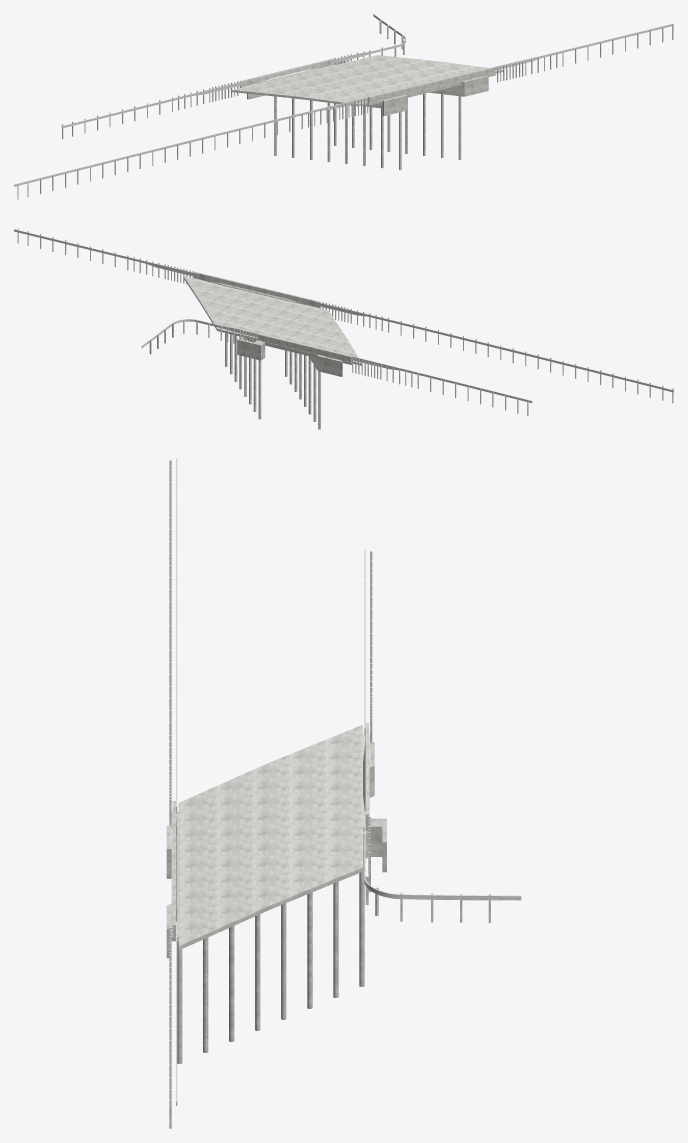
File: model_render.glb
3 views of the same model, one above another, from view 1: azimuth 30°, elevation 25°; view 2: azimuth 150°, elevation 25°; view 3: azimuth 270°, elevation 25° (orthographic). The views are drawn at different scales.
Visible parts, largest first — view 1: deck, approach_1, approach_2, guardrail_run_-1_-1, guardrail_-1_1, guardrail_-1_-1, guardrail_1_-1, guardrail_end_-1_-1, guardrail_end_-1_1, guardrail_end_1_-1, FC_rail_-1, wing_2_-1 (+2 smaller); view 2: deck, approach_2, approach_1, guardrail_run_-1_-1, guardrail_1_-1, guardrail_-1_1, guardrail_-1_-1, guardrail_end_1_-1, wing_2_1, FC_rail_-1, guardrail_end_-1_-1, guardrail_end_-1_1 (+3 smaller); view 3: deck, approach_2, approach_1, guardrail_terminal_1_1.
Boxes of the visible parts, x1,y1,x2,y2 form: deck: (273, 64, 462, 97); approach_1: (232, 80, 399, 106); approach_2: (337, 55, 503, 80); guardrail_run_-1_-1: (114, 116, 288, 175); guardrail_-1_1: (495, 48, 576, 82); guardrail_-1_-1: (288, 97, 368, 131); guardrail_1_-1: (159, 80, 246, 114); guardrail_end_-1_-1: (14, 159, 113, 199); guardrail_end_-1_1: (574, 23, 673, 60); guardrail_end_1_-1: (61, 101, 161, 139); FC_rail_-1: (400, 74, 463, 95); wing_2_-1: (461, 75, 488, 96); deck: (225, 286, 319, 357); approach_2: (183, 276, 257, 340); approach_1: (288, 301, 361, 365); guardrail_run_-1_-1: (399, 322, 576, 378); guardrail_1_-1: (352, 356, 431, 391); guardrail_-1_1: (113, 252, 198, 284); guardrail_-1_-1: (314, 301, 401, 335); guardrail_end_1_-1: (432, 376, 532, 415); wing_2_1: (237, 339, 265, 360); FC_rail_-1: (224, 279, 288, 300); guardrail_end_-1_-1: (574, 365, 673, 403); guardrail_end_-1_1: (14, 228, 113, 263); deck: (171, 764, 369, 905); approach_2: (171, 827, 362, 950); approach_1: (171, 725, 369, 843); guardrail_terminal_1_1: (364, 865, 521, 922).
Size of the model in its own units: 101 by 12.56 by 23.46.
3 materials, 2 textured.
